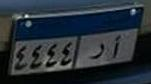4: (29, 42, 43, 70), (59, 41, 73, 67), (45, 42, 58, 70), (15, 44, 28, 71)
alif: (111, 34, 122, 59)
raa: (89, 41, 106, 61)
